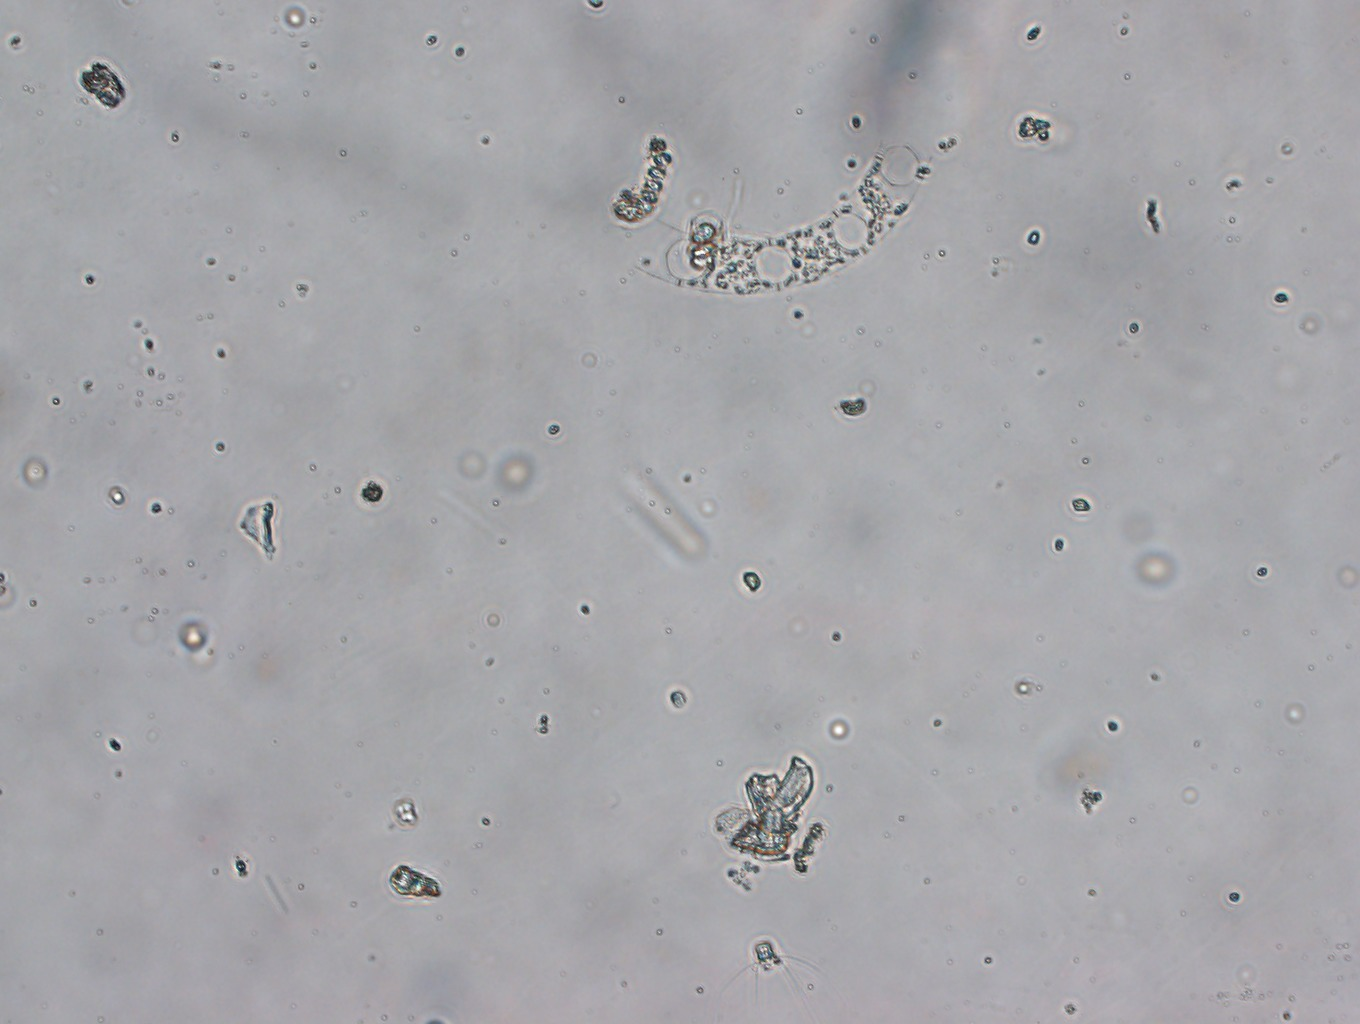eucampia: (652, 137, 965, 305)
